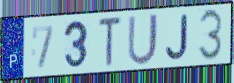3: (61, 19, 91, 70), (197, 8, 224, 63)
7: (31, 24, 55, 70)
J: (164, 12, 190, 62)
T: (97, 16, 123, 69)
U: (126, 11, 160, 67)
